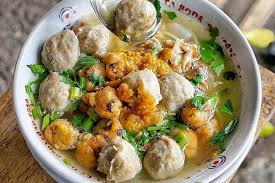bakso: (43, 17, 206, 169)
